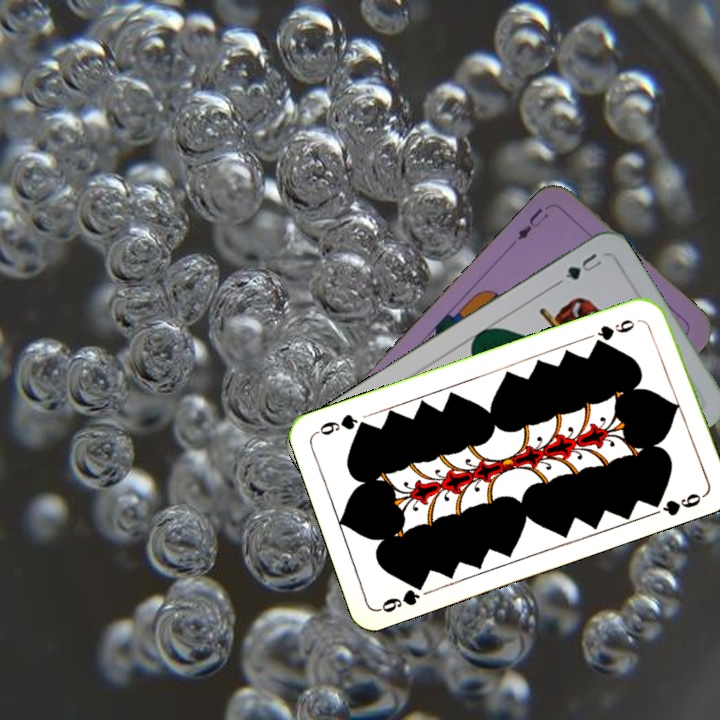EU: (513, 204, 551, 243)
G9: (375, 576, 428, 616), (590, 315, 638, 348)
GU: (561, 248, 605, 283)
